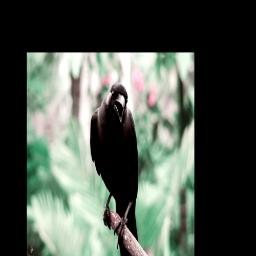Crow: (89, 81, 141, 256)
